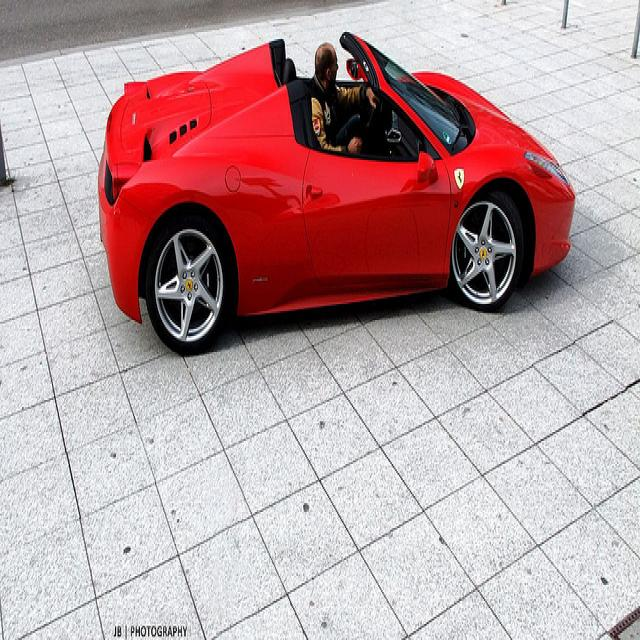car: (83, 32, 579, 354)
